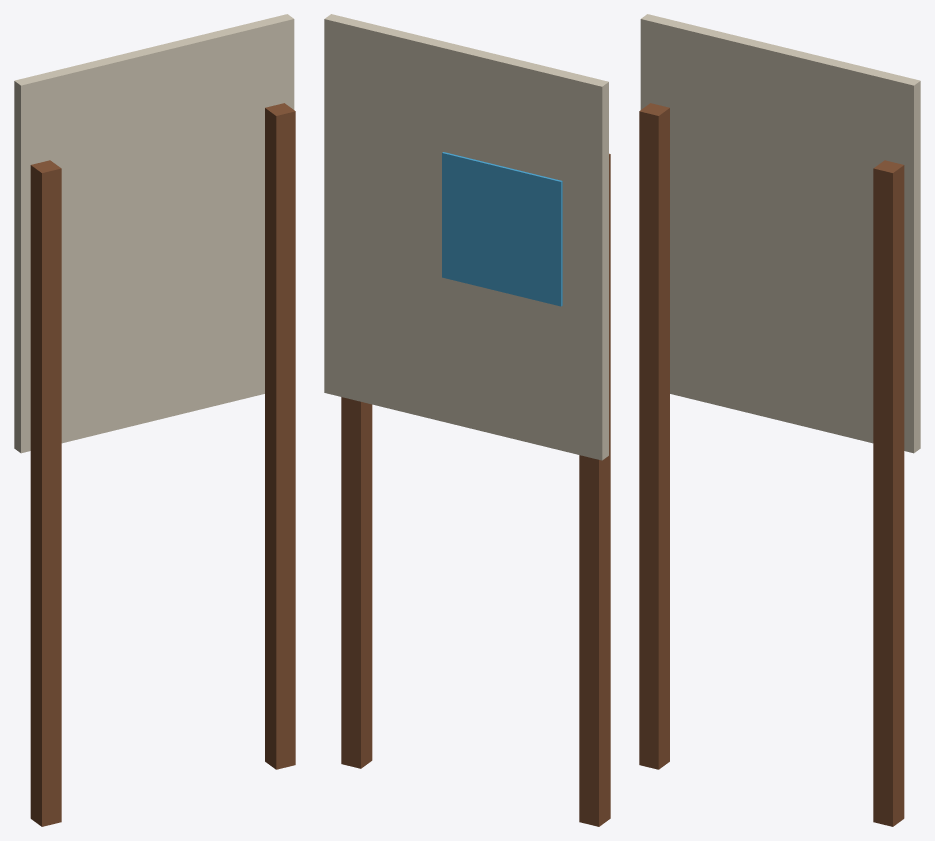
Rendered from easel_2.glb.
3 renders of one model, left to right at view 1: azimuth 30°, elevation 25°; view 2: azimuth 150°, elevation 25°; view 3: azimuth 330°, elevation 25°, orthographic.
Visible parts, largest first — view 1: Box3, Box2, Box1; view 2: Box3, Box4, Box2, Box1; view 3: Box3, Box1, Box2.
Part boxes in pixels (bbox=[...]): Box3: bbox=[14, 14, 294, 453]; Box2: bbox=[30, 160, 61, 826]; Box1: bbox=[265, 103, 295, 769]; Box3: bbox=[324, 14, 608, 460]; Box4: bbox=[442, 152, 562, 306]; Box2: bbox=[579, 153, 610, 826]; Box1: bbox=[341, 397, 372, 768]; Box3: bbox=[640, 14, 920, 453]; Box1: bbox=[873, 160, 904, 826]; Box2: bbox=[639, 103, 669, 769].
Bounding box in the file's own units: 0.7 × 1.8 × 0.086.
